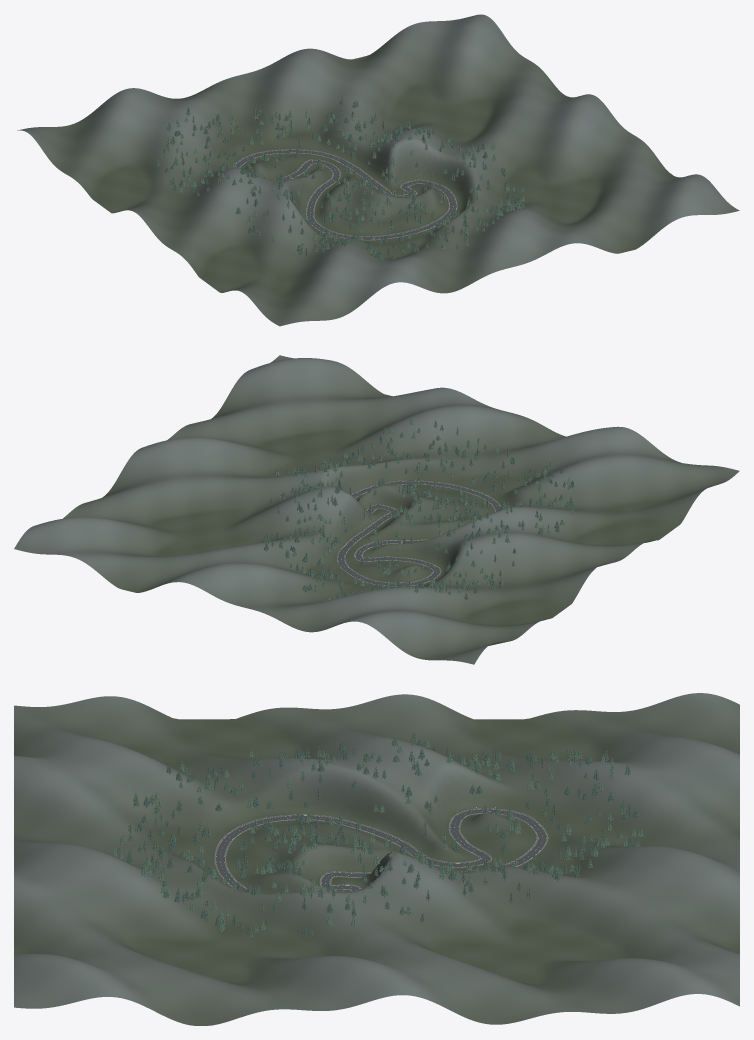
Rendered from mountain_pass.glb.
The picture shows the model from 3 angles, top to bottom: view 1: azimuth 30°, elevation 25°; view 2: azimuth 150°, elevation 25°; view 3: azimuth 270°, elevation 25°; orthographic projection. The views are drawn at different scales.
Visible parts, largest first — view 1: Terrain_Cut_Bench, Road_Surface, Cedar_Canopy_01_0, Cedar_Canopy_06_2, Cedar_Canopy_01_2, Cedar_Canopy_06_1, Gravel_Edges, Cedar_Canopy_02_0, Cedar_Canopy_02_1, Cedar_Canopy_04_0, Guardrails; view 2: Terrain_Cut_Bench, Road_Surface, Cedar_Canopy_01_0, Cedar_Canopy_06_2, Cedar_Canopy_02_0, Cedar_Canopy_06_1, Cedar_Canopy_01_2, Gravel_Edges, Cedar_Canopy_02_1, Guardrails, Cedar_Canopy_04_0; view 3: Terrain_Cut_Bench, Road_Surface, Cedar_Canopy_01_0, Cedar_Canopy_01_2, Cedar_Canopy_02_1, Cedar_Canopy_06_2, Gravel_Edges, Cedar_Canopy_02_0, Cedar_Canopy_04_0, Cedar_Canopy_05_2, Guardrails, Cedar_Canopy_01_1 (+10 smaller).
Boxes of the visible parts, x1,y1,x2,y2 form: Terrain_Cut_Bench: [17, 14, 739, 326]; Road_Surface: [233, 150, 456, 239]; Cedar_Canopy_01_0: [295, 178, 458, 260]; Cedar_Canopy_06_2: [284, 96, 430, 175]; Cedar_Canopy_01_2: [290, 174, 446, 259]; Cedar_Canopy_06_1: [288, 104, 417, 176]; Gravel_Edges: [235, 150, 457, 240]; Cedar_Canopy_02_0: [371, 142, 509, 241]; Cedar_Canopy_02_1: [390, 156, 521, 246]; Cedar_Canopy_04_0: [156, 106, 276, 190]; Guardrails: [236, 149, 457, 239]; Terrain_Cut_Bench: [14, 355, 739, 664]; Road_Surface: [337, 481, 500, 585]; Cedar_Canopy_01_0: [405, 443, 552, 526]; Cedar_Canopy_06_2: [263, 480, 377, 575]; Cedar_Canopy_02_0: [317, 420, 471, 519]; Cedar_Canopy_06_1: [271, 482, 377, 573]; Cedar_Canopy_01_2: [393, 447, 547, 527]; Gravel_Edges: [337, 481, 500, 586]; Cedar_Canopy_02_1: [326, 417, 480, 505]; Guardrails: [338, 480, 500, 586]; Cedar_Canopy_04_0: [379, 522, 509, 599]; Terrain_Cut_Bench: [14, 693, 739, 1025]; Road_Surface: [215, 809, 547, 892]; Cedar_Canopy_01_0: [117, 792, 378, 857]; Cedar_Canopy_01_2: [138, 781, 373, 862]; Cedar_Canopy_02_1: [112, 842, 379, 910]; Cedar_Canopy_06_2: [387, 843, 594, 901]; Gravel_Edges: [214, 809, 547, 891]; Cedar_Canopy_02_0: [126, 844, 378, 905]; Cedar_Canopy_04_0: [376, 732, 630, 795]; Cedar_Canopy_05_2: [405, 784, 639, 857]; Guardrails: [214, 808, 548, 890]; Cedar_Canopy_01_1: [120, 792, 375, 853].
Bounding box in the file's own units: 680 × 53.54 × 680.
11 materials, 1 textured.
